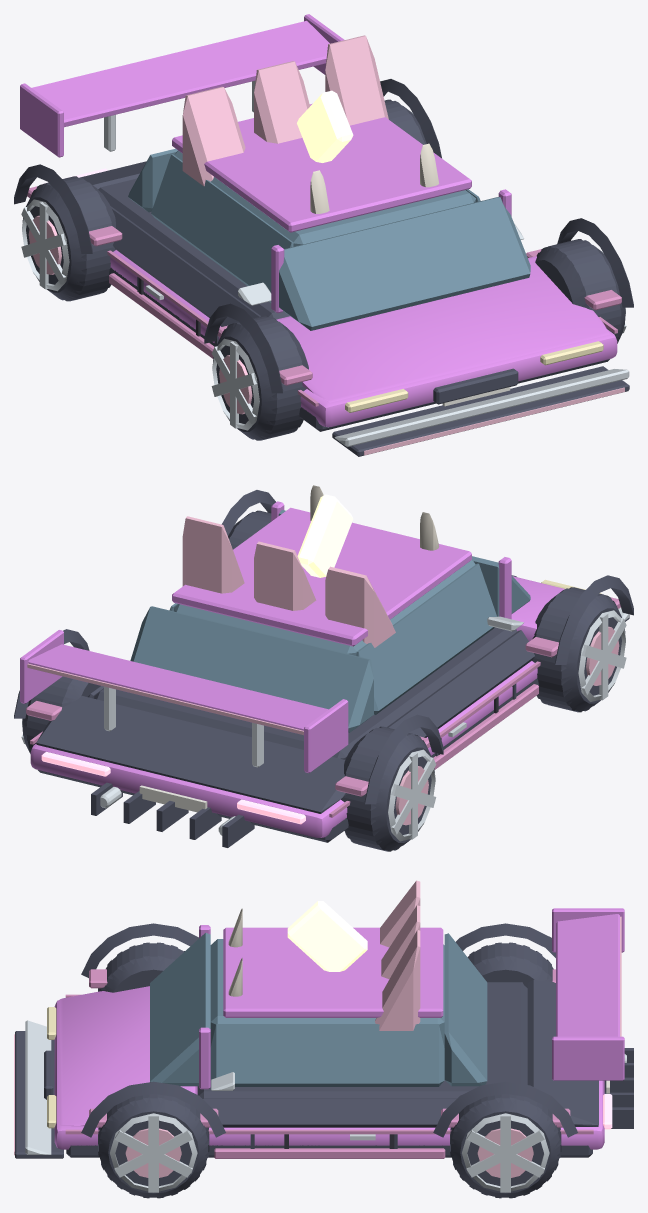
Rendered from mermaid_motor.fbx.
3 renders of one model, top to bottom at view 1: azimuth 30°, elevation 25°; view 2: azimuth 150°, elevation 25°; view 3: azimuth 270°, elevation 25°, orthographic. The views are drawn at different scales.
Visible parts, largest first — view 1: Body, Glass, Trim, Light, Metal, Wheel_FR, Wheel_RR, Accent2, Accent, Wheel_FL, Light4, Light2 (+3 smaller); view 2: Trim, Body, Glass, Light, Metal, Wheel_RR, Wheel_FR, Accent, Light4, Wheel_RL, Light3, Metal2 (+3 smaller); view 3: Body, Trim, Glass, Metal, Light, Wheel_FL, Wheel_RL, Accent, Light4, Accent2, Wheel_RR, Wheel_FR (+3 smaller).
Part boxes in pixels (x1,y1,x2,y2): Body: [20, 14, 617, 427]; Glass: [128, 148, 530, 330]; Trim: [14, 79, 633, 456]; Light: [182, 35, 624, 455]; Metal: [21, 80, 626, 430]; Wheel_FR: [213, 315, 308, 440]; Wheel_RR: [22, 176, 115, 301]; Accent2: [238, 224, 629, 446]; Accent: [27, 186, 621, 406]; Wheel_FL: [535, 239, 625, 343]; Light4: [297, 90, 353, 162]; Light2: [345, 341, 603, 412]; Trim: [14, 490, 633, 847]; Body: [20, 501, 564, 837]; Glass: [130, 510, 530, 732]; Light: [27, 516, 395, 734]; Metal: [21, 523, 626, 841]; Wheel_RR: [341, 726, 434, 851]; Wheel_FR: [532, 587, 625, 712]; Accent: [26, 597, 620, 817]; Light4: [297, 494, 353, 577]; Wheel_RL: [22, 676, 100, 753]; Light3: [41, 752, 305, 824]; Metal2: [395, 626, 619, 825]; Body: [54, 908, 624, 1149]; Trim: [15, 923, 633, 1158]; Glass: [150, 932, 487, 1086]; Metal: [110, 1054, 626, 1192]; Light: [14, 880, 621, 1155]; Wheel_FL: [98, 1094, 209, 1198]; Wheel_RL: [450, 1094, 561, 1198]; Accent: [65, 969, 593, 1158]; Light4: [287, 901, 367, 971]; Accent2: [25, 1020, 234, 1154]; Wheel_RR: [467, 942, 553, 987]; Wheel_FR: [98, 942, 184, 992].
Bounding box in the file's own units: 3.4 × 2.05 × 5.3.
